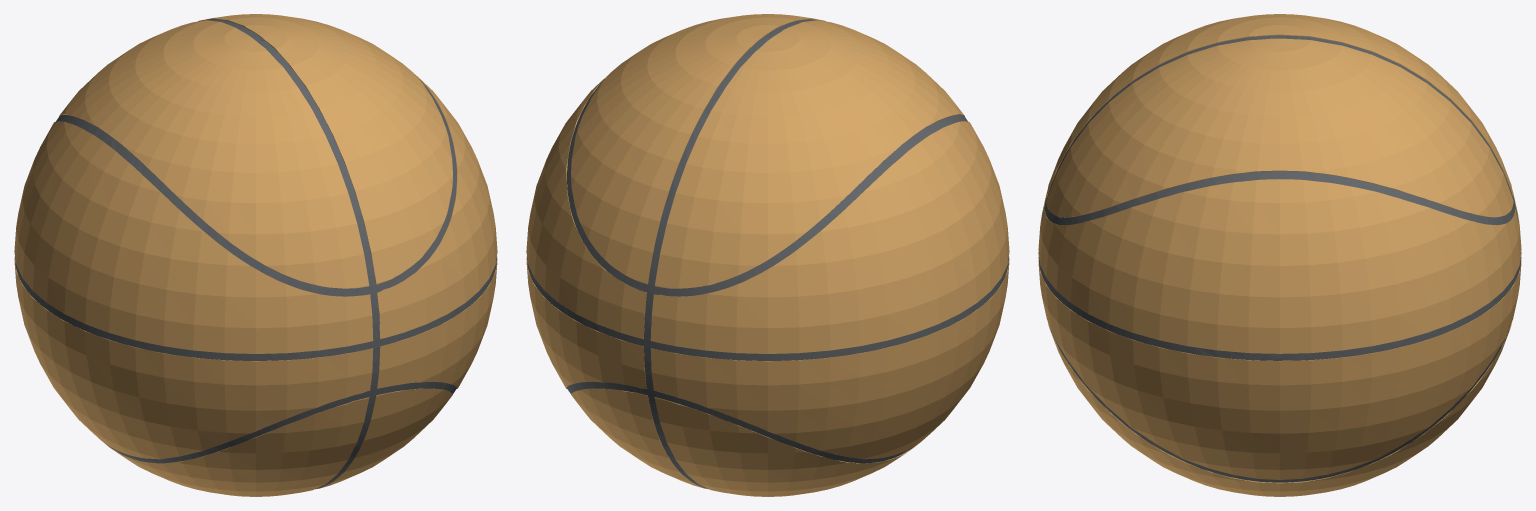
Rendered from ball.glb.
The picture shows the model from 3 angles, left to right: view 1: azimuth 30°, elevation 25°; view 2: azimuth 150°, elevation 25°; view 3: azimuth 270°, elevation 25°; orthographic projection.
Visible parts, largest first — view 1: Mesh_Mesh_head_geo.001_lambert2SG.001; view 2: Mesh_Mesh_head_geo.001_lambert2SG.001; view 3: Mesh_Mesh_head_geo.001_lambert2SG.001.
Part boxes in pixels (x1,y1,x2,y2): Mesh_Mesh_head_geo.001_lambert2SG.001: (14, 14, 497, 496); Mesh_Mesh_head_geo.001_lambert2SG.001: (526, 14, 1009, 496); Mesh_Mesh_head_geo.001_lambert2SG.001: (1038, 14, 1521, 496).
Size of the model in its own units: 6 by 6 by 6.
